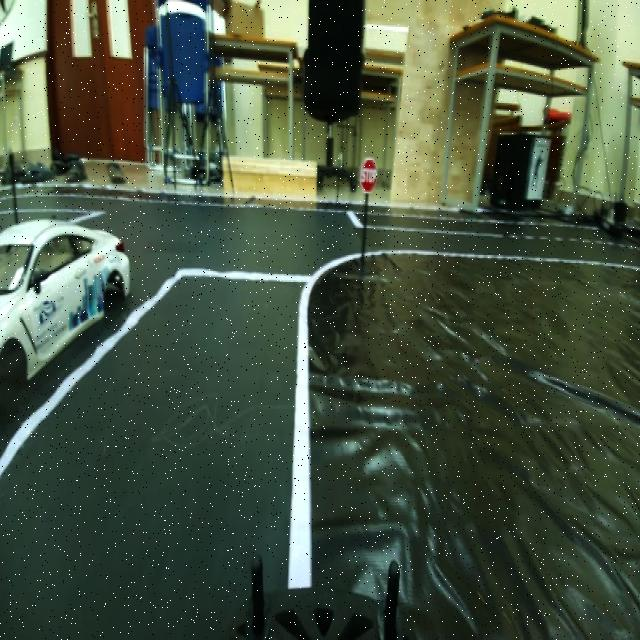stop: (354, 148, 380, 202)
